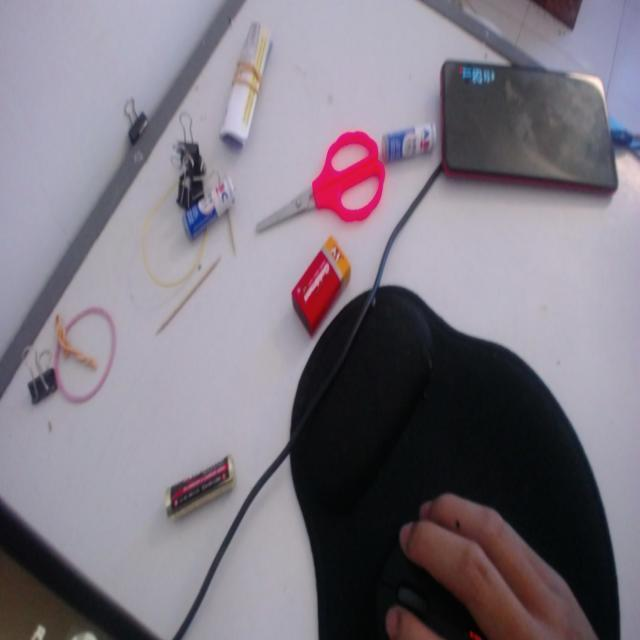9V: (288, 202, 358, 340)
AA: (148, 454, 268, 526), (372, 112, 446, 182), (176, 172, 238, 236)
